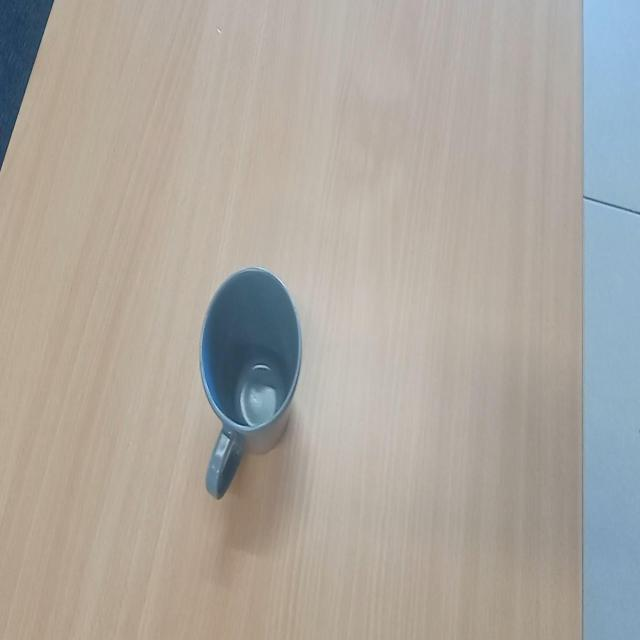cup: (197, 262, 307, 501)
